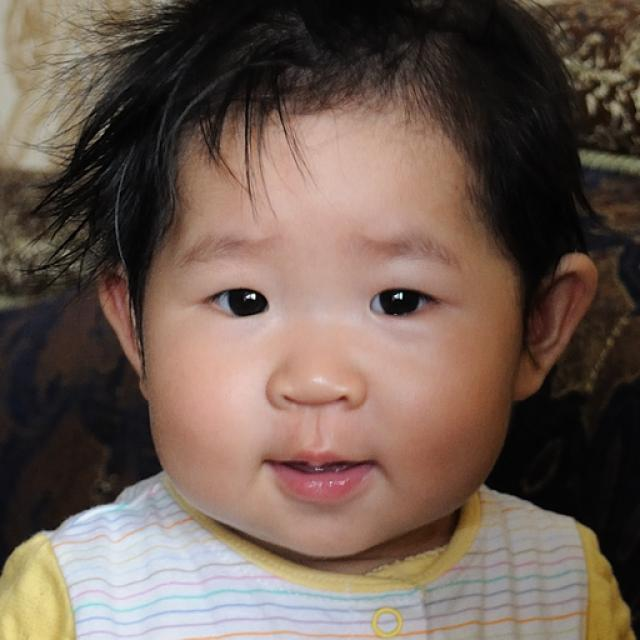surprise: (141, 108, 520, 560)
